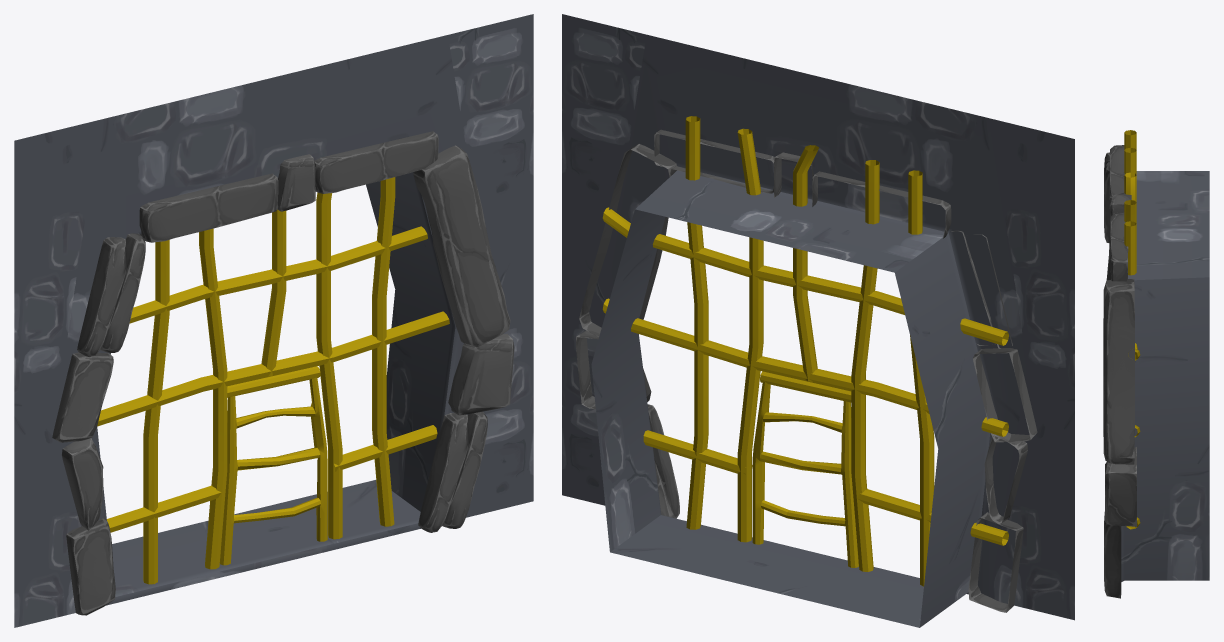
Rendered from Jaill wall. with doorfbx.fbx.
3 views of the same model, side by side, from view 1: azimuth 30°, elevation 25°; view 2: azimuth 150°, elevation 25°; view 3: azimuth 270°, elevation 25° (orthographic). The views are drawn at different scales.
Visible parts, largest first — view 1: polySurface93, polySurface94; view 2: polySurface93, polySurface94; view 3: polySurface93.
Part boxes in pixels (bbox=[...]): polySurface93: bbox=[14, 14, 533, 627]; polySurface94: bbox=[219, 366, 327, 565]; polySurface93: bbox=[562, 14, 1074, 627]; polySurface94: bbox=[752, 371, 858, 567]; polySurface93: bbox=[1103, 130, 1209, 598].
Bounding box in the file's own units: 14 × 12.67 × 3.
